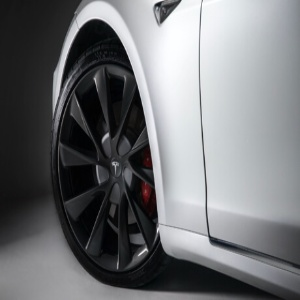tire: (51, 47, 191, 288)
